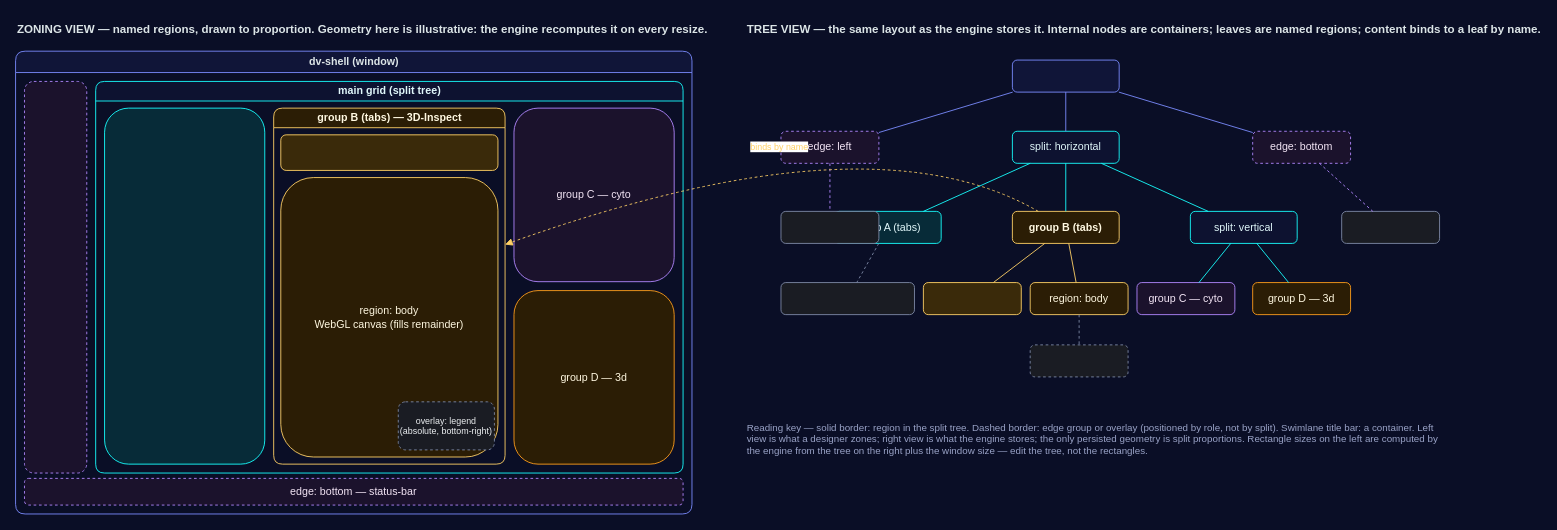
Image size: 1557x530. Some labels were removed from this diagram. Here are the shapes that lost their labels. From the top down, the centre of each, then its label:
At point (1065, 75): "shell".
At point (389, 152): "region: header title + controls".
At point (829, 226): "settings".
At point (1390, 226): "status-bar".
At point (55, 277): "edge: left settings (Cmd+B)".
At point (184, 285): "group A (tabs) json-edit · dyadic · topology-extract".
At point (847, 298): "json-edit · dyadic · topology-extract".
At point (971, 298): "region: header".
At point (1078, 360): "overlay: legend".
